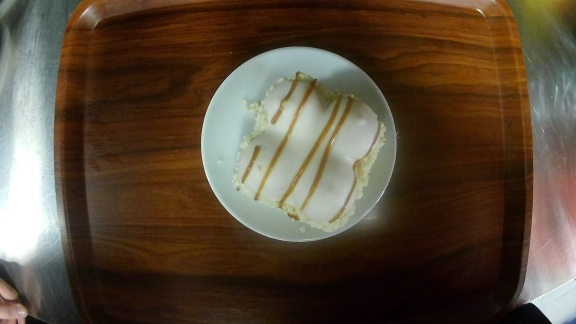beyazpasta: (200, 46, 398, 241)
